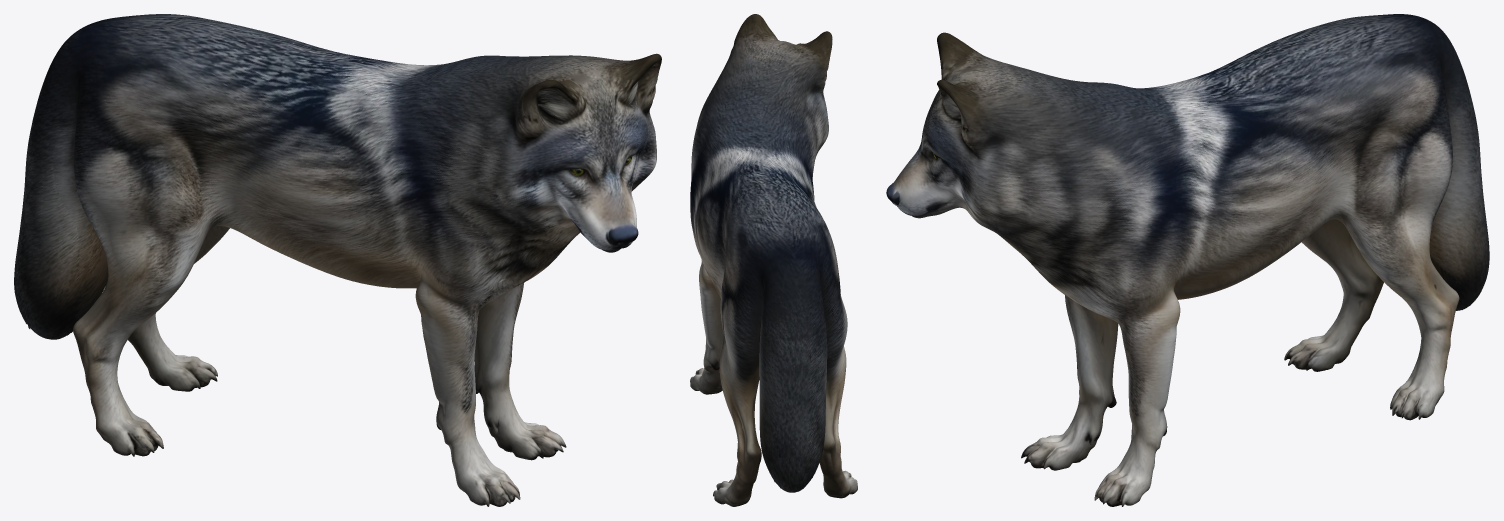
The model's file is wolf.glb.
3 renders of one model, left to right at view 1: azimuth 30°, elevation 25°; view 2: azimuth 150°, elevation 25°; view 3: azimuth 270°, elevation 25°, orthographic. The views are drawn at different scales.
Parts seen in each view (by area): view 1: material; view 2: material; view 3: material.
Part boxes in pixels (x1,y1,x2,y2): material: [14, 14, 661, 506]; material: [690, 14, 857, 506]; material: [886, 14, 1489, 506].
Size of the model in its own units: 0.6446 by 0.7323 by 0.9299.
1 material, 1 textured.
